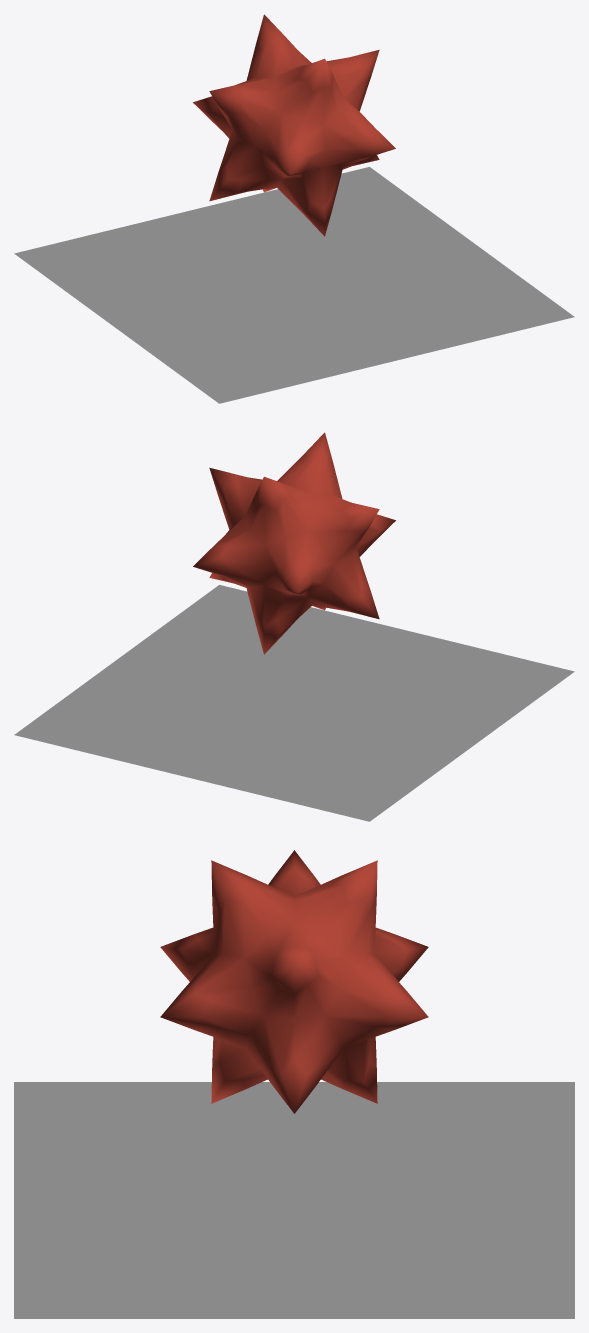
Rendered from item_starComplex.FBX.
3 renders of one model, top to bottom at view 1: azimuth 30°, elevation 25°; view 2: azimuth 150°, elevation 25°; view 3: azimuth 270°, elevation 25°, orthographic. The views are drawn at different scales.
Visible parts, largest first — view 1: obj_starComplex; view 2: obj_starComplex; view 3: obj_starComplex.
Part boxes in pixels (x1,y1,x2,y2): obj_starComplex: (14, 14, 574, 403); obj_starComplex: (14, 432, 574, 821); obj_starComplex: (14, 850, 574, 1318).
Bounding box in the file's own units: 2.12 × 1.42 × 2.12.
